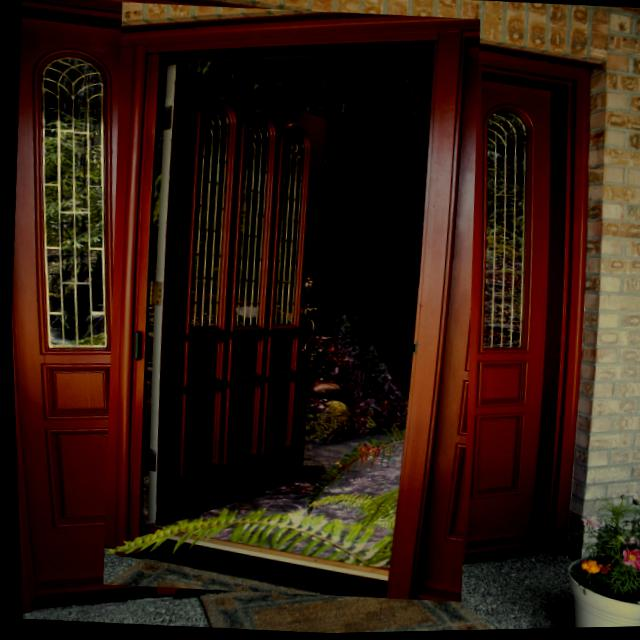semi-open: (81, 0, 497, 611)
